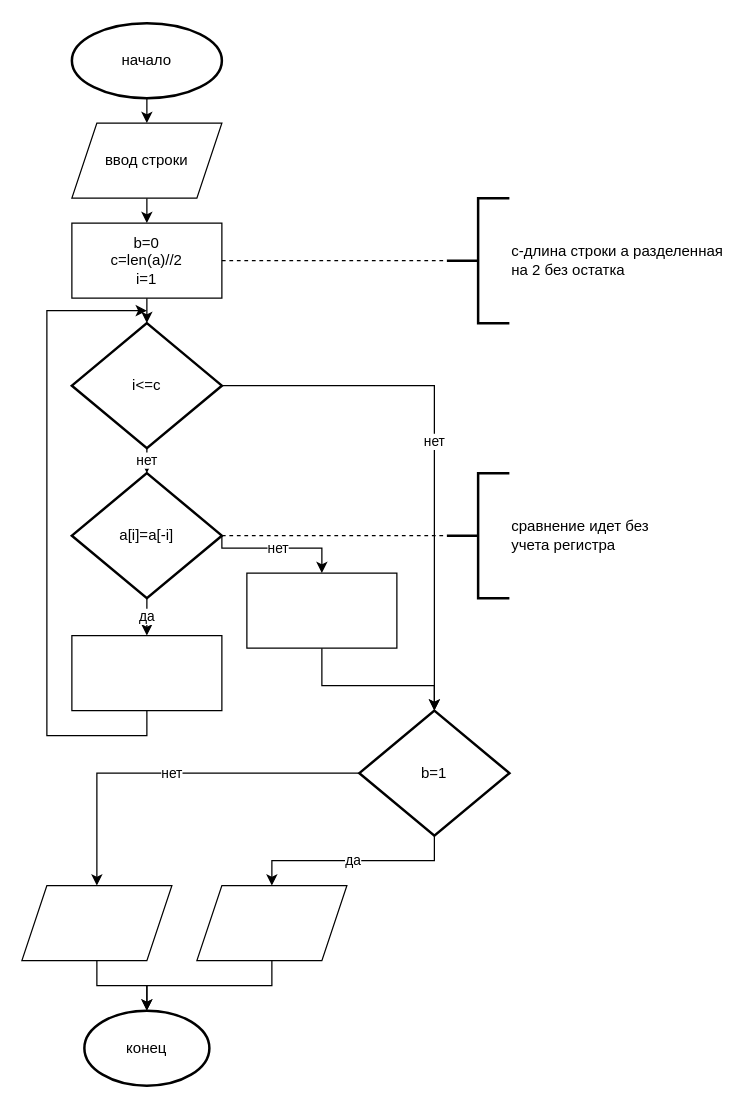
Some shapes in this 745 by 1108 pixel diagram are drawn without their labels. The shapes that lost their labels are listed below. From the top down, each one's centre as x and y in pixels, then its label:
At (x=321, y=610): "b=0".
At (x=146, y=672): "b=1 i=i+1".
At (x=96, y=922): "не палиндром".
At (x=271, y=922): "палиндром".
